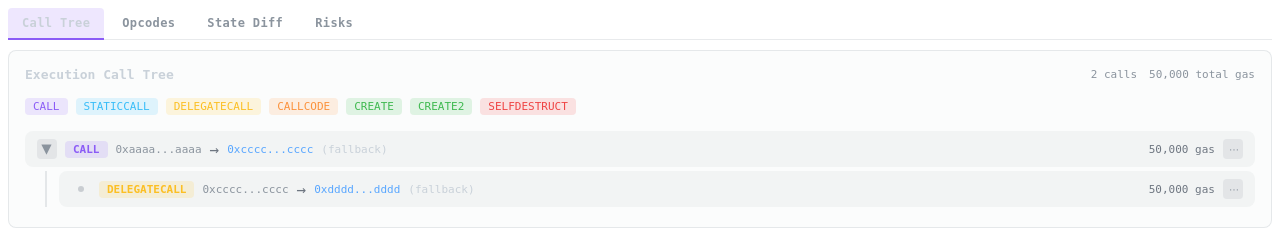
Test case: FullDebuggerLayout › renders state diff tab with empty state when no diffs
Click the tab "State Diff".
click(245, 23)  # box [207,16,283,30]
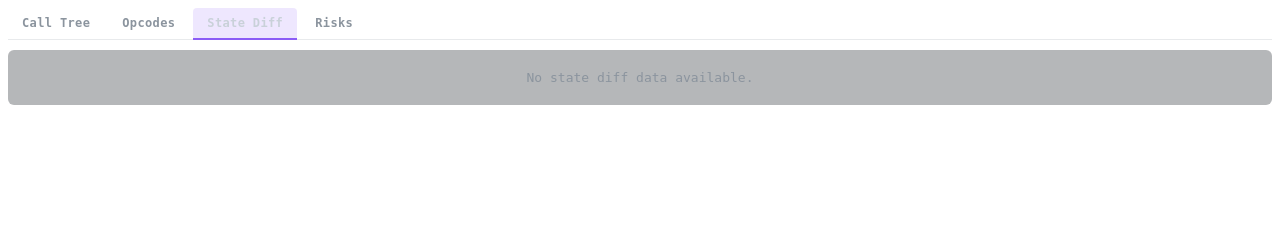
Result: the text "No state diff data available." is shown at [8,50,1272,105]
